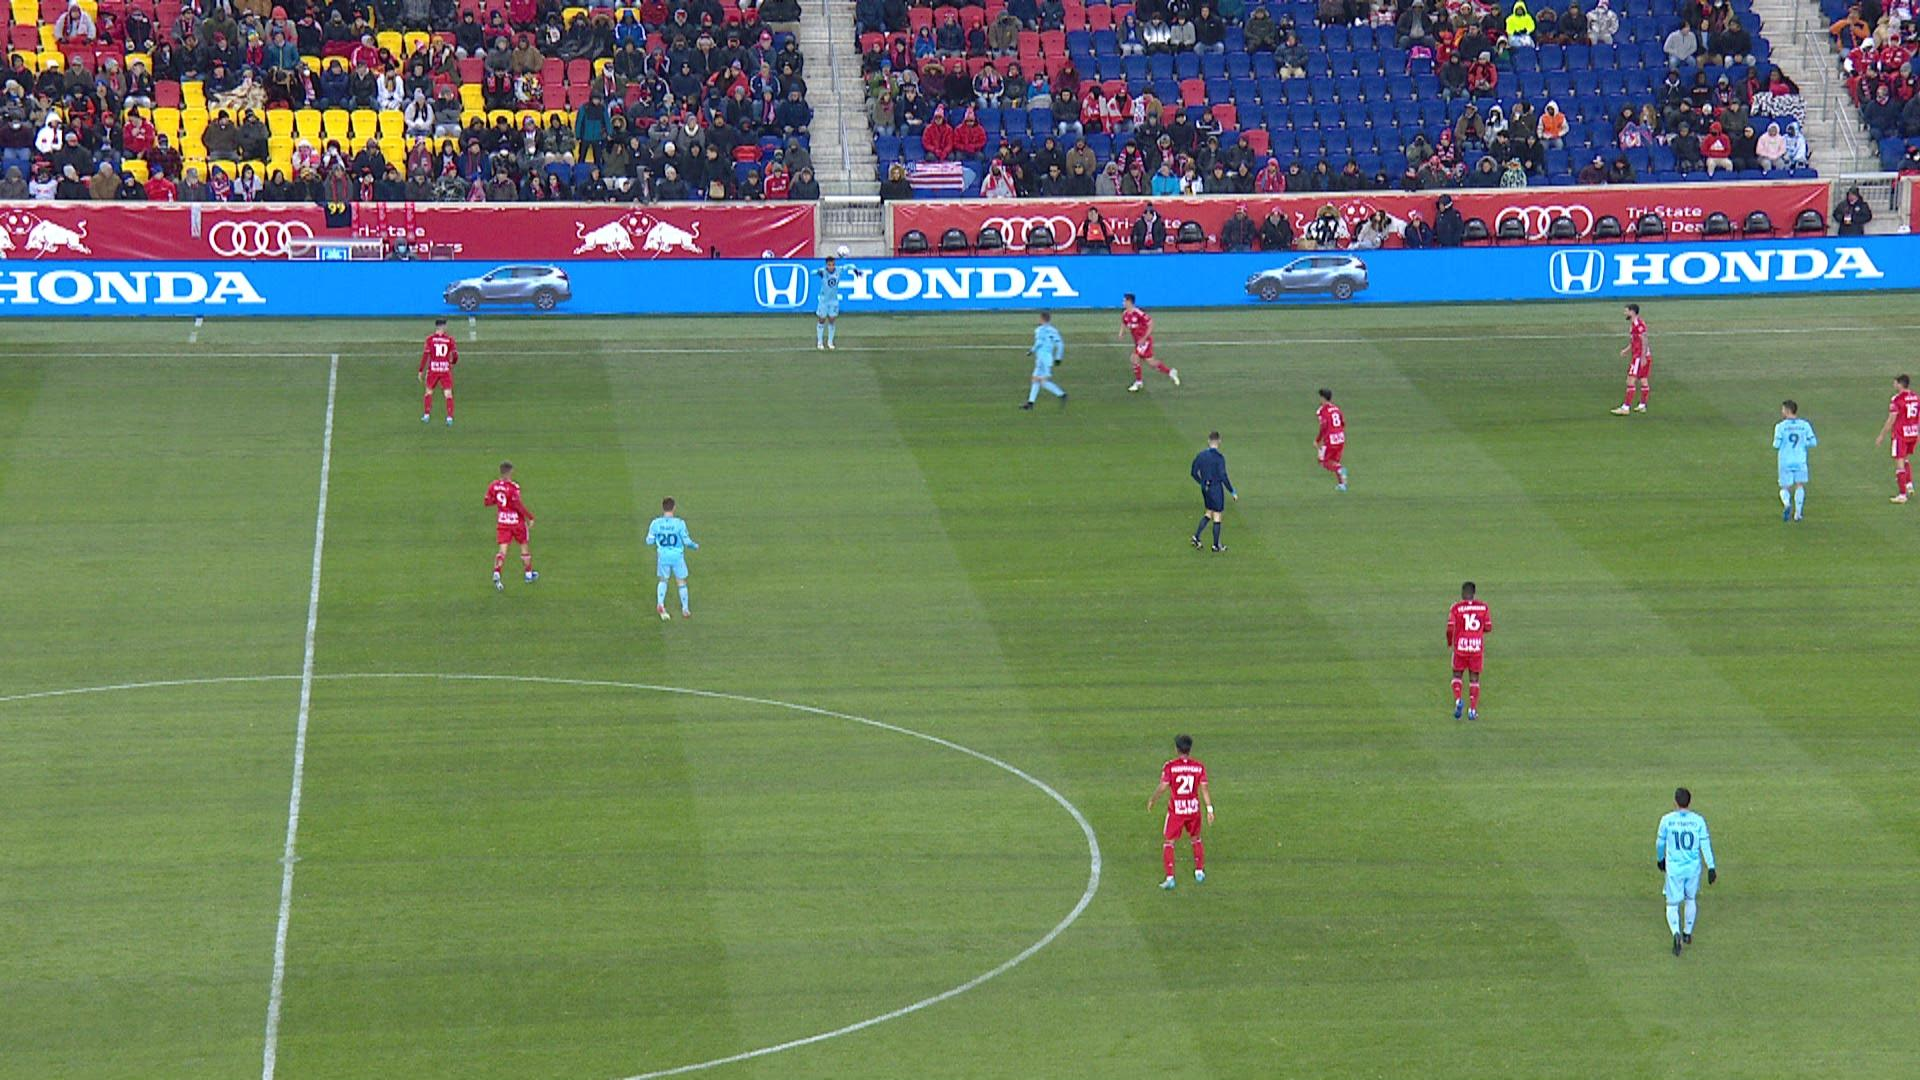football: (839, 247, 847, 256)
